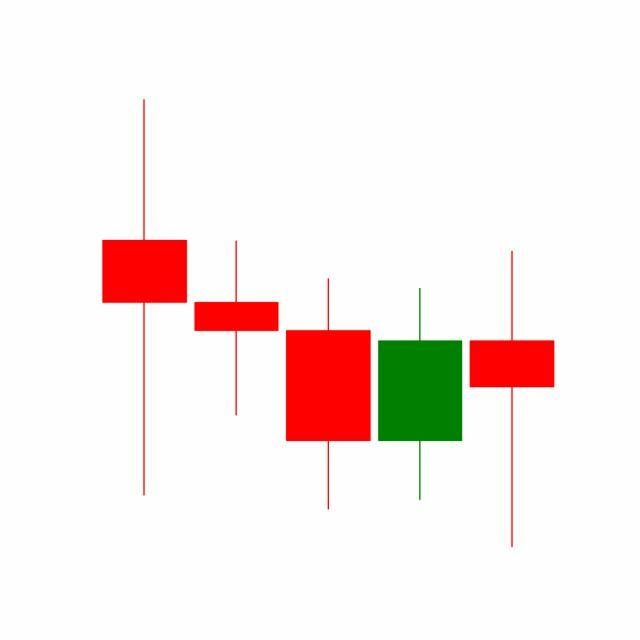Spinning Top: (466, 249, 559, 552)
